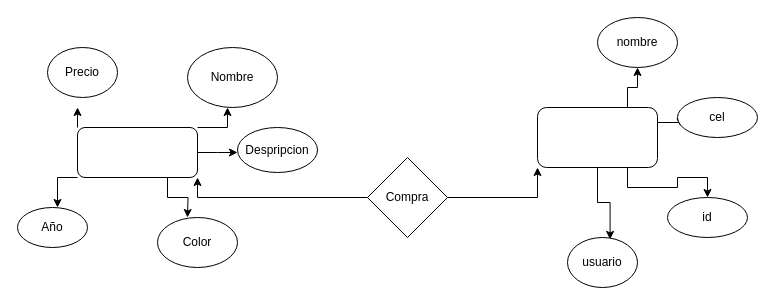
Some shapes in this 775 by 305 pixel diagram are drawn without their labels. Here are the shapes that lost their labels. From the top down, the centre of each, then its label:
the point at 137,152: Producto
the point at 597,137: Cliente
